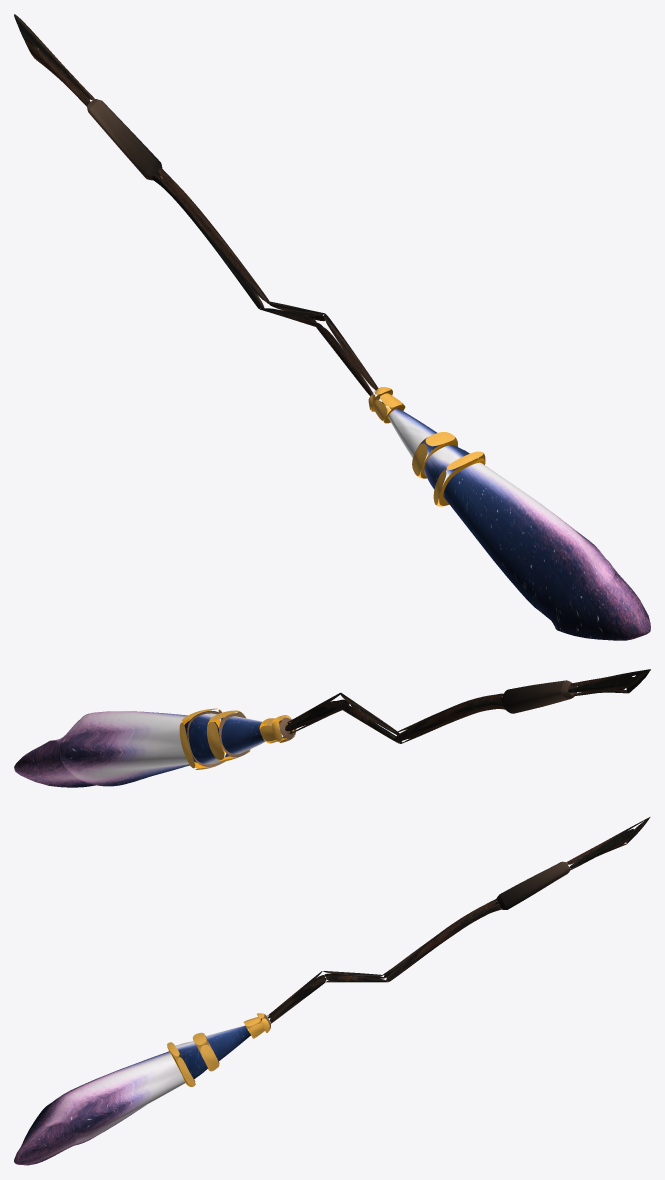
The model's file is ebonyStar.glb.
3 renders of one model, top to bottom at view 1: azimuth 30°, elevation 25°; view 2: azimuth 210°, elevation 25°; view 3: azimuth 270°, elevation 25°, orthographic. The views are drawn at different scales.
Visible parts, largest first — view 1: MainStick; view 2: MainStick; view 3: MainStick.
Part boxes in pixels (x1,y1,x2,y2): MainStick: [14, 14, 650, 640]; MainStick: [14, 669, 650, 787]; MainStick: [14, 817, 650, 1165].
Bounding box in the file's own units: 4.77 × 7.8 × 16.2.
1 material, 1 textured.
